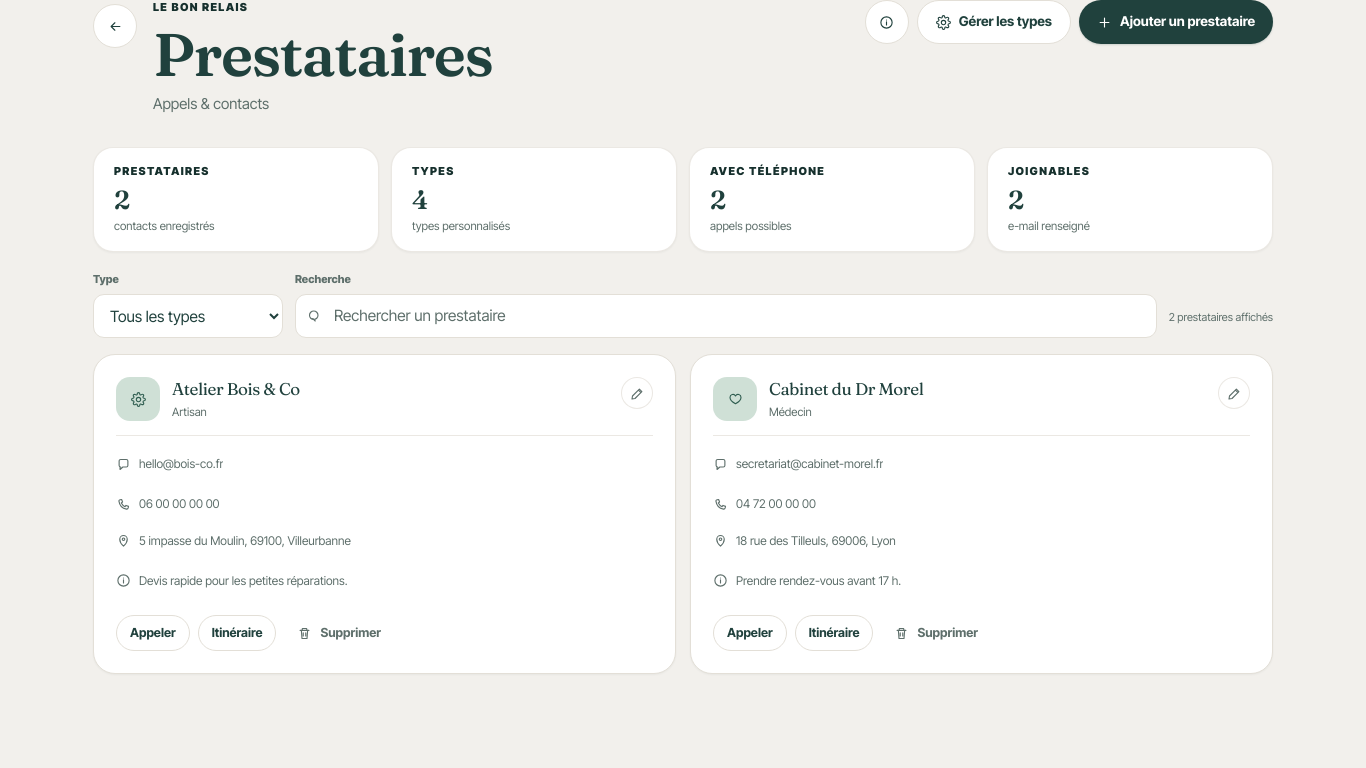
Scenario: PrestatairesPage › valide l’adresse e-mail du formulaire
Expected: the heading "Cabinet du Dr Morel" is shown, [769,378,923,399]
Click the button "Ajouter un prestataire" at (1176, 22), box [1079,0,1273,44]
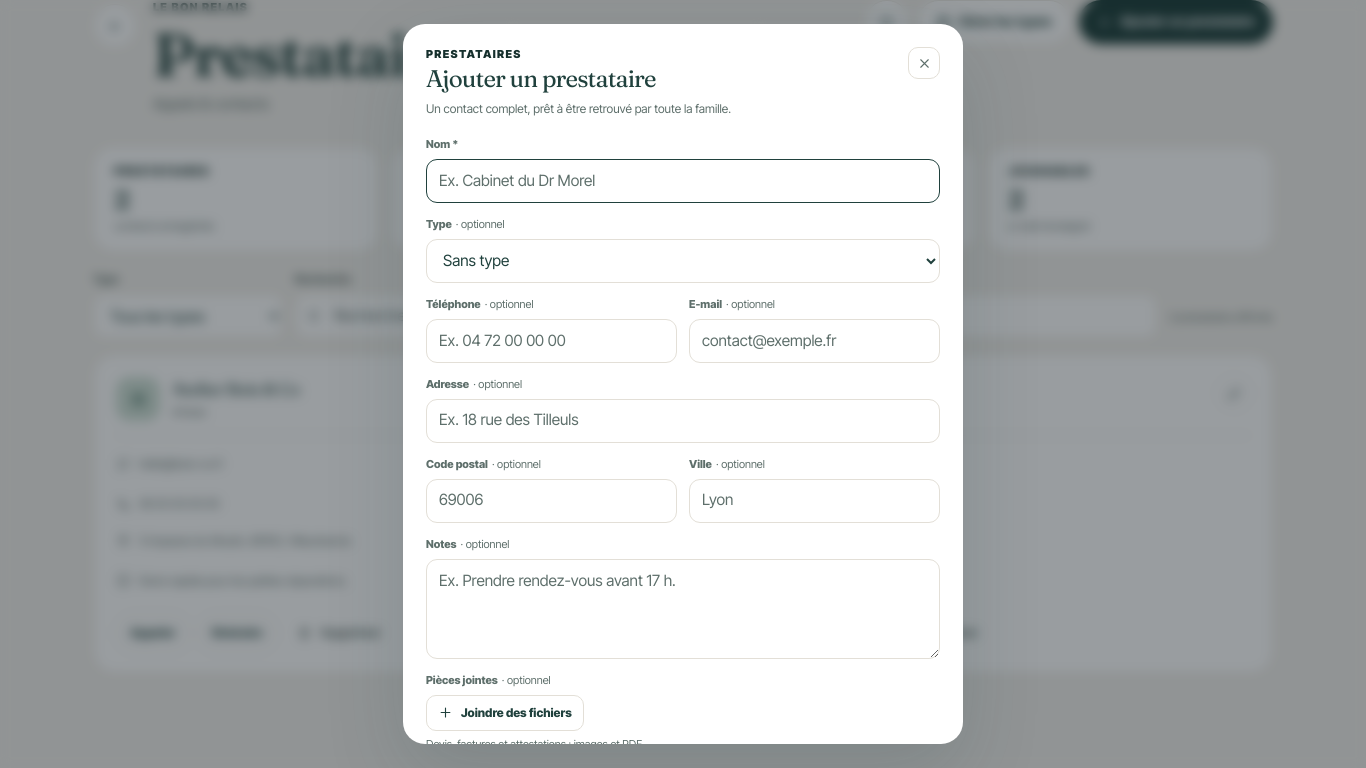
Type "Plombier" into the field labelled "Nom *" at (683, 181), box [426,159,940,203]
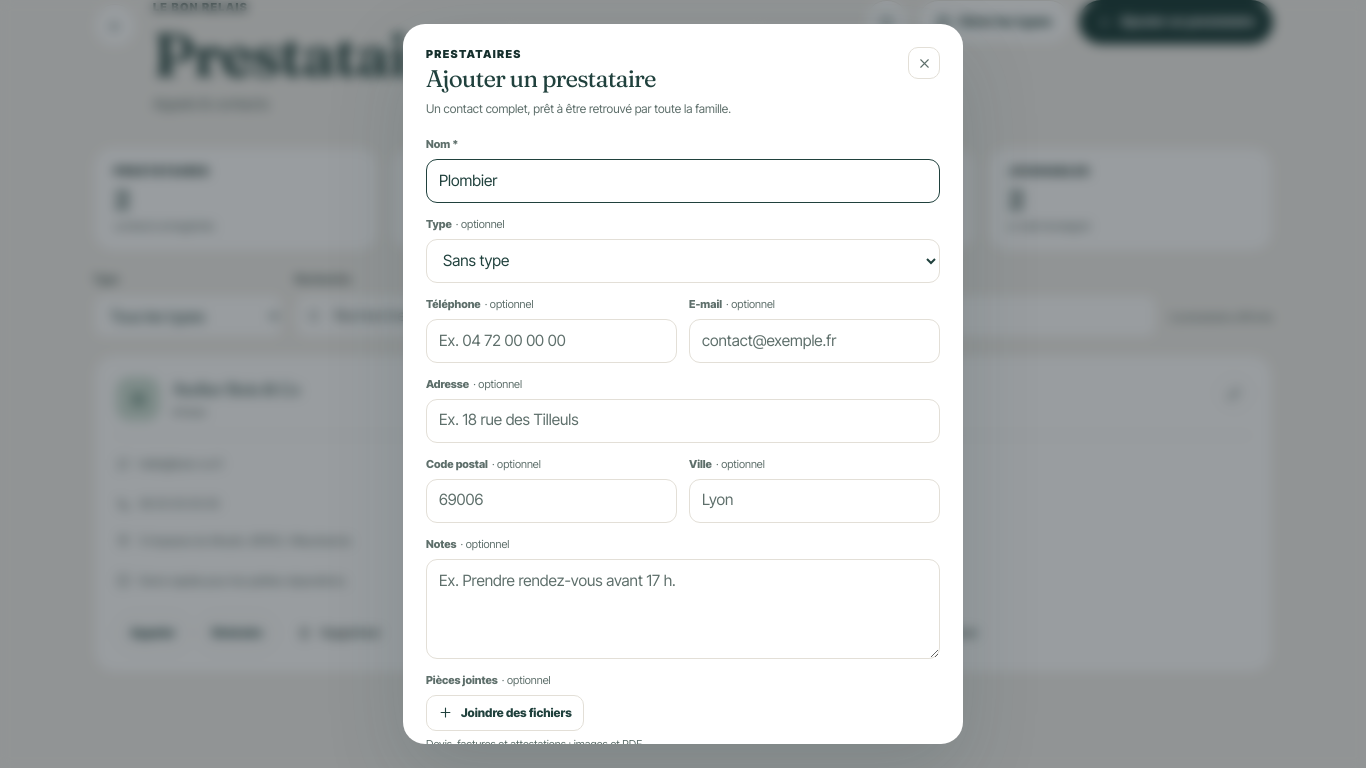
Type "pas-un-email" into the field labelled "E-mail· optionnel" at (814, 341), box [689,319,940,363]
(page scrolled)
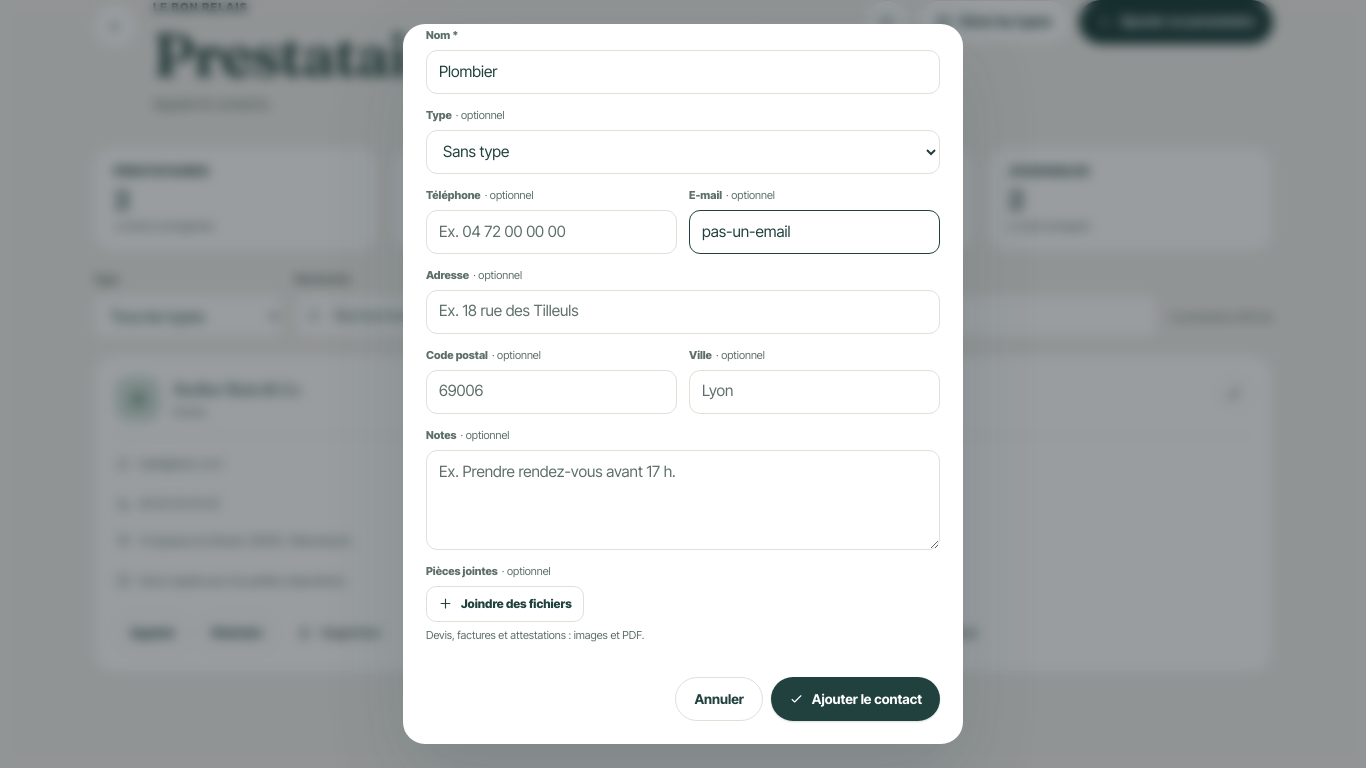
Click the button "Ajouter le contact" at (855, 699), box [771,677,940,721]
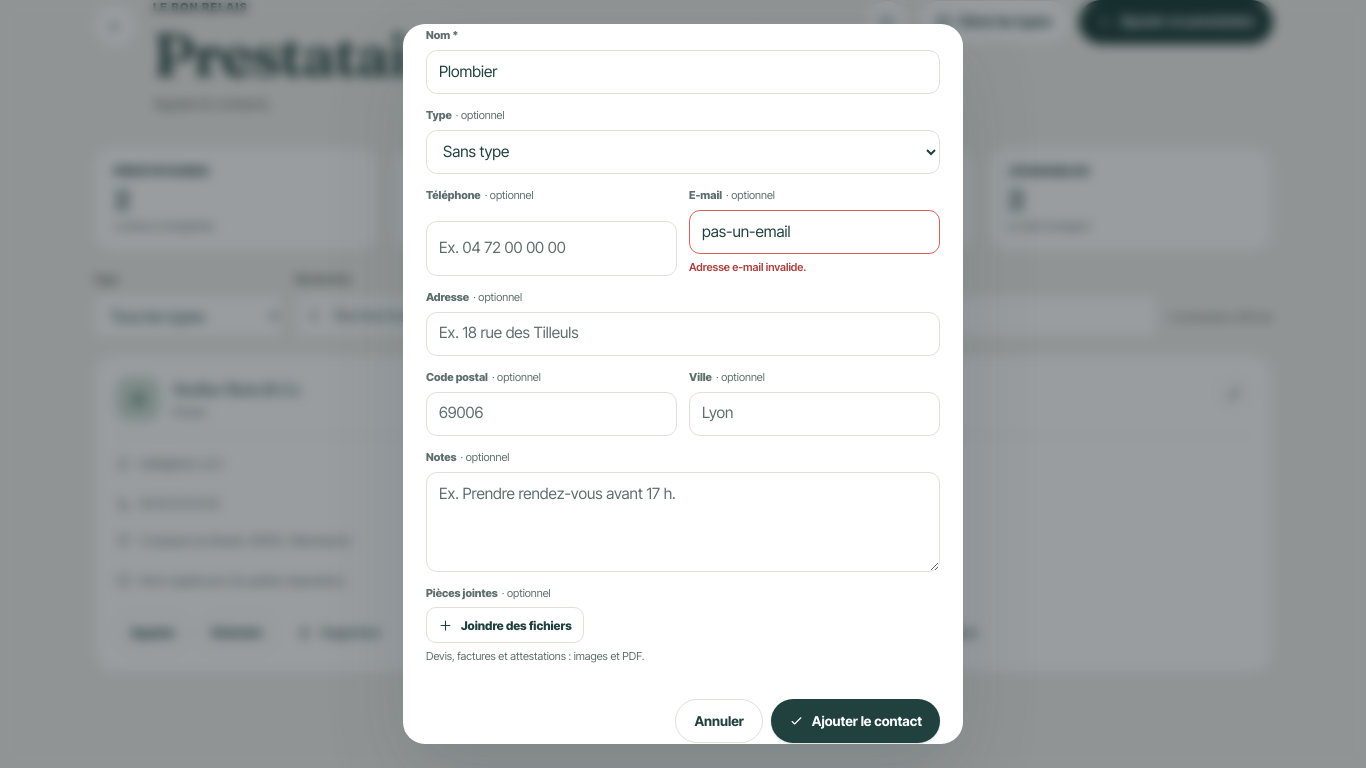
Expected: the text "Adresse e-mail invalide." is shown, [689,260,806,274]
